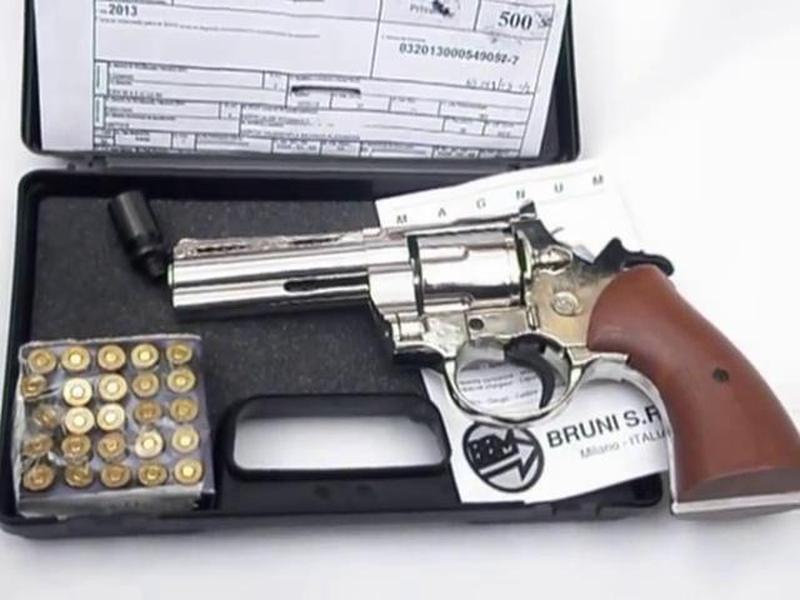Revolver: (142, 206, 726, 445)
